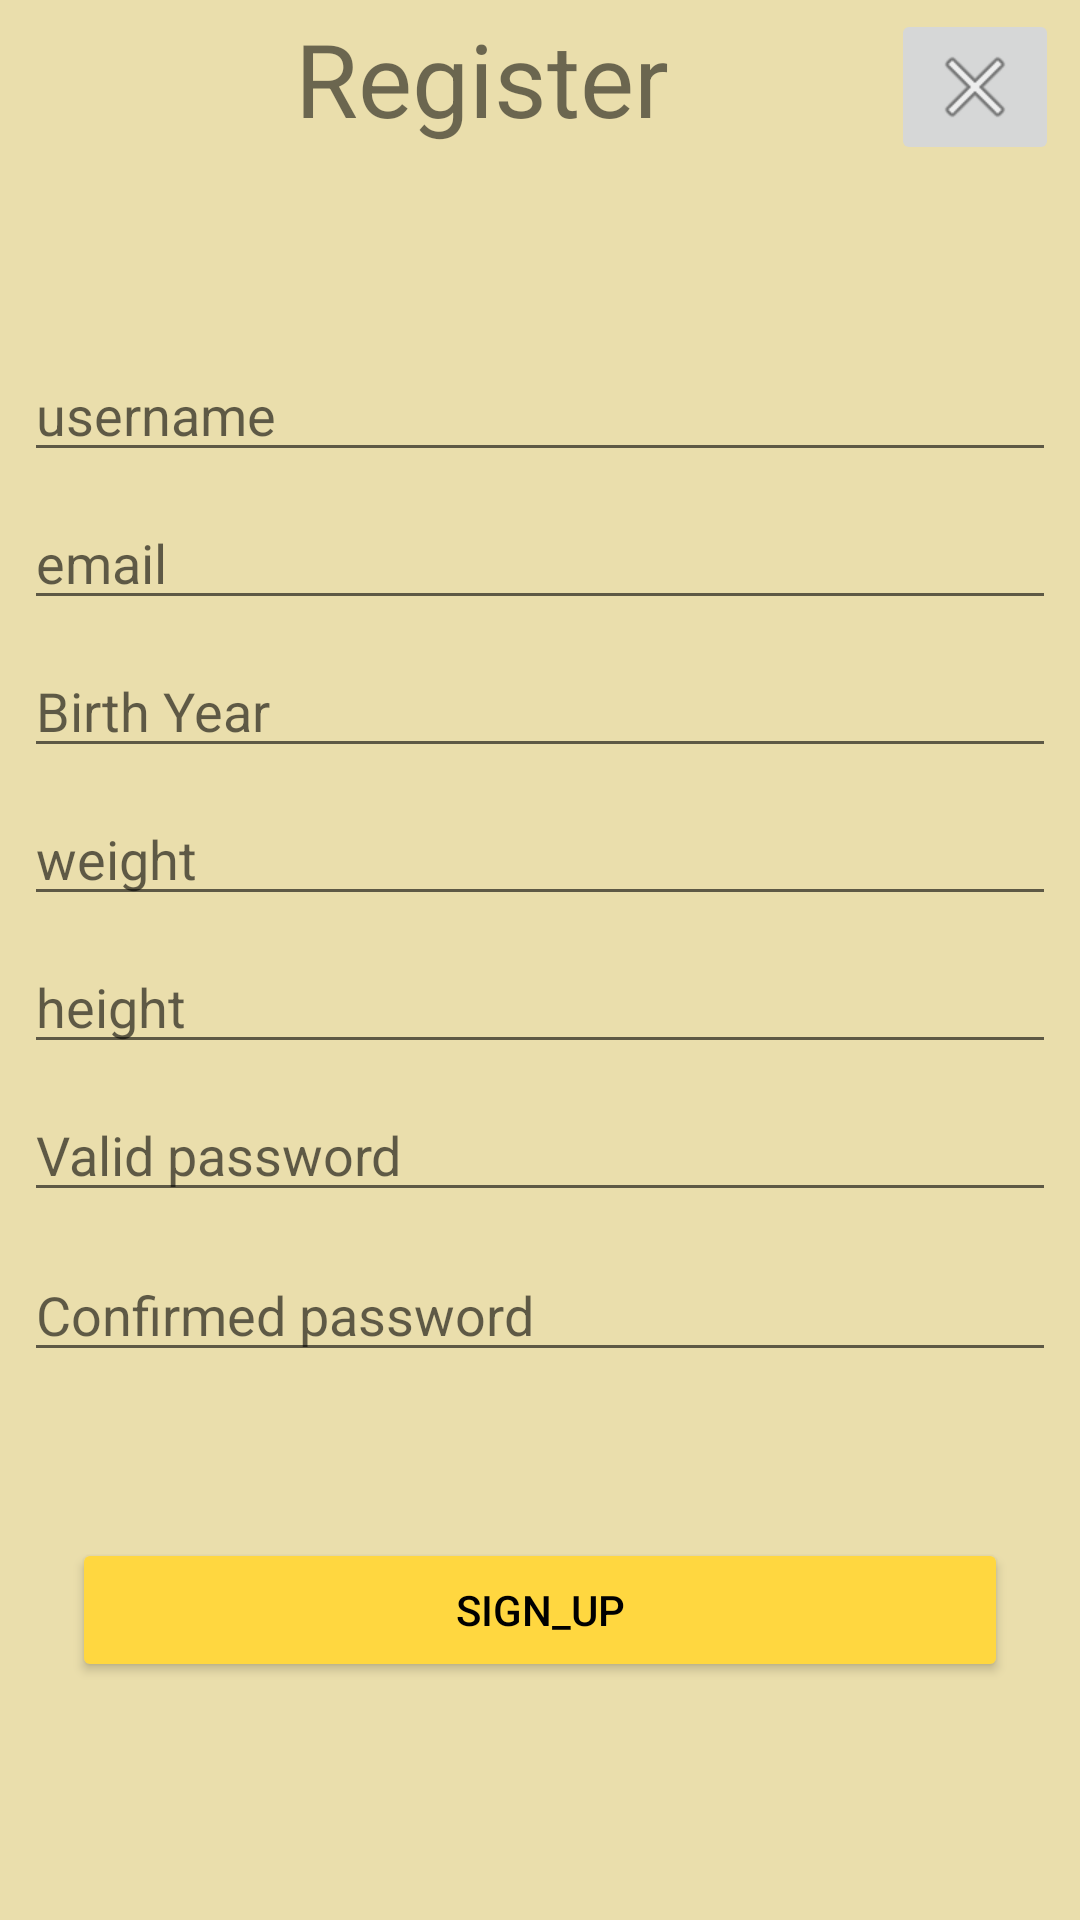

Icons on this 1080x1920 Android screen, each with its box as (x1,y1,x2,y2):
close clear cancel: (903,27,1047,147)
